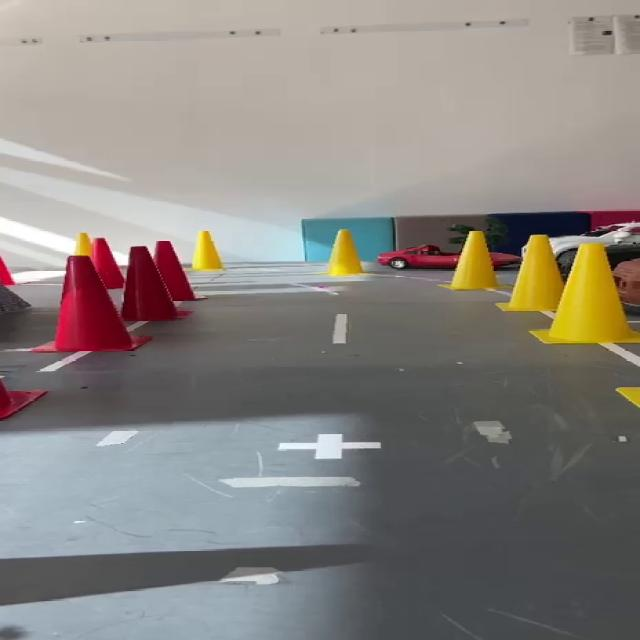Cone-red: (32, 255, 148, 351), (123, 246, 183, 320), (153, 241, 199, 300), (0, 378, 44, 419), (91, 238, 124, 289), (0, 256, 15, 285)
Cones-yellow: (530, 243, 639, 344), (498, 235, 563, 312), (446, 231, 497, 289), (327, 229, 360, 276), (192, 230, 221, 271), (618, 388, 639, 408), (73, 233, 90, 256)
